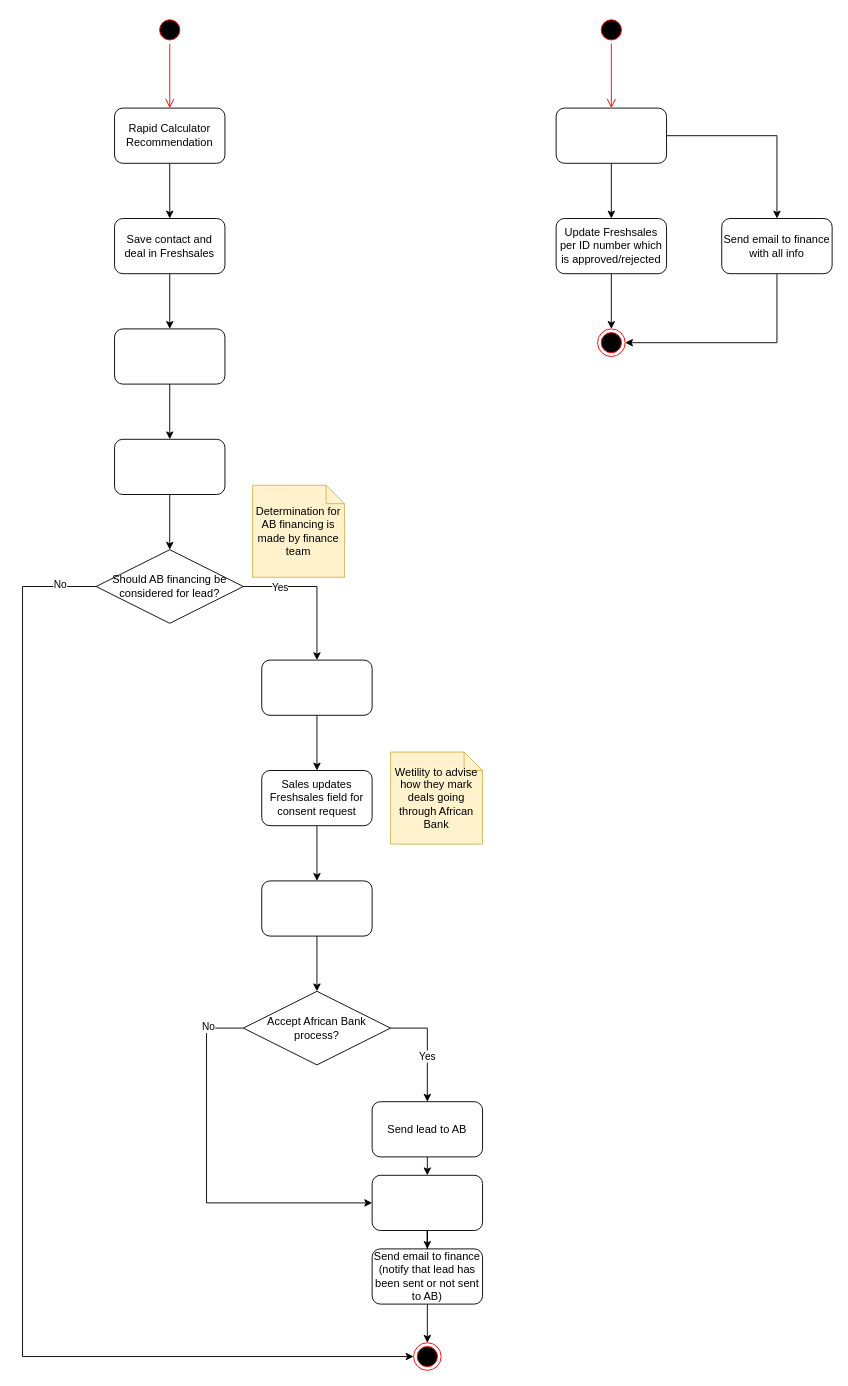
Some shapes in this 848 by 1386 pixel diagram are drawn without their labels. The centre of each missing label's shape, as x and y in pixels:
"Finance requests to Sales to ask for AB consent" goes at (316,687).
"Freshsales automation sends email with link to give consent" goes at (316,908).
"Generate PDF Proposal" goes at (169,356).
"SFTP gets new file" goes at (611,135).
"Update Freshsales with user's consent" goes at (427,1202).
"User fills in smart sheet form" goes at (169,466).
